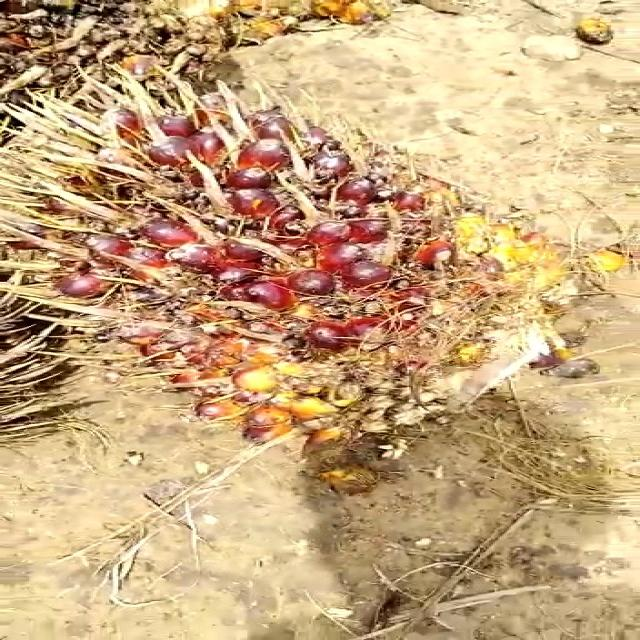palm oil: (30, 91, 607, 459)
